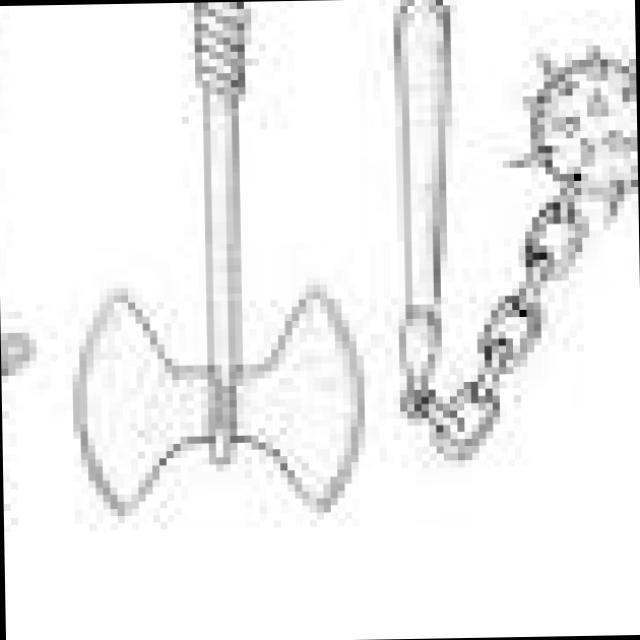Gun: (23, 0, 403, 560)
